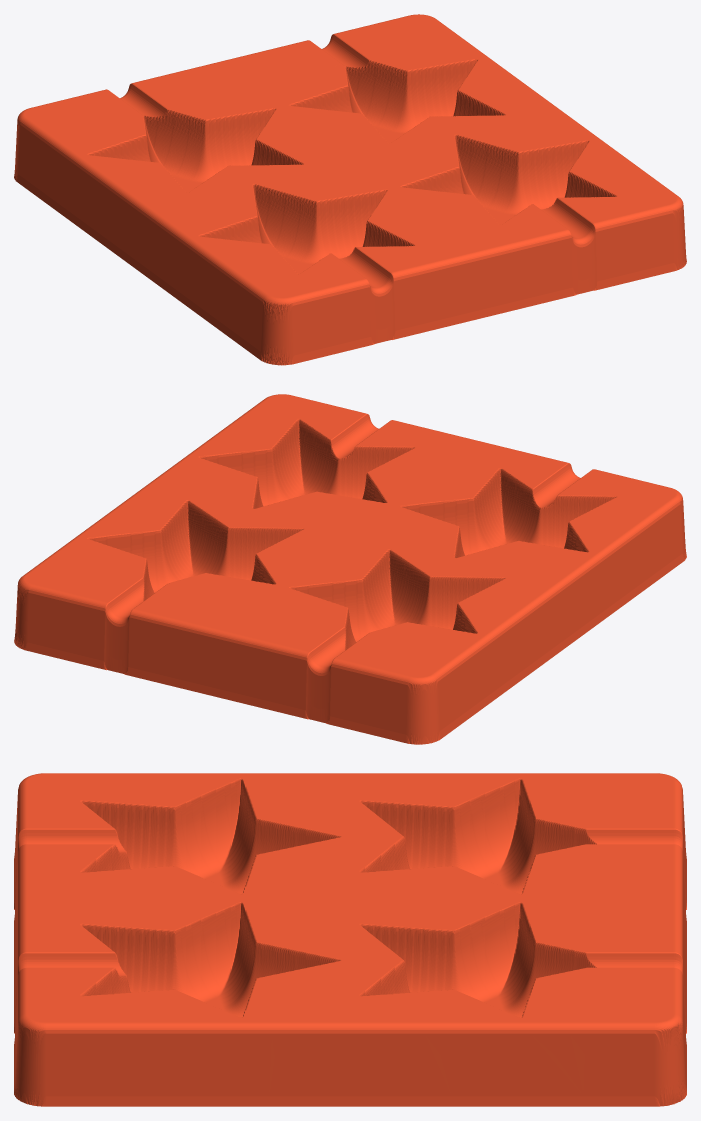
The model's file is mold.glb.
The picture shows the model from 3 angles, top to bottom: view 1: azimuth 30°, elevation 25°; view 2: azimuth 150°, elevation 25°; view 3: azimuth 270°, elevation 25°; orthographic projection. The views are drawn at different scales.
Parts seen in each view (by area): view 1: geometry_0; view 2: geometry_0; view 3: geometry_0.
Boxes of the visible parts, x1,y1,x2,y2 form: geometry_0: (14, 14, 686, 365); geometry_0: (14, 394, 686, 744); geometry_0: (14, 773, 686, 1106).
Size of the model in its own units: 0.1726 by 0.0245 by 0.1893.
